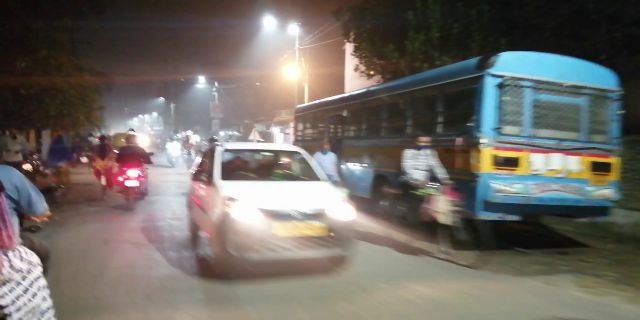Bus: (287, 55, 627, 236)
Car: (194, 125, 358, 272)
Motorbike: (117, 132, 158, 212)
